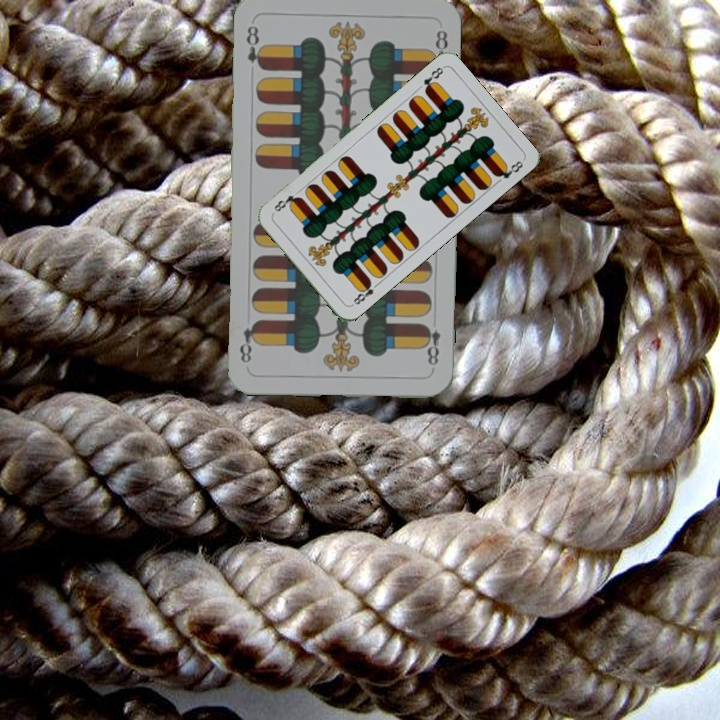E8: (242, 22, 267, 73), (419, 320, 443, 372), (347, 276, 382, 308), (419, 63, 446, 95)
